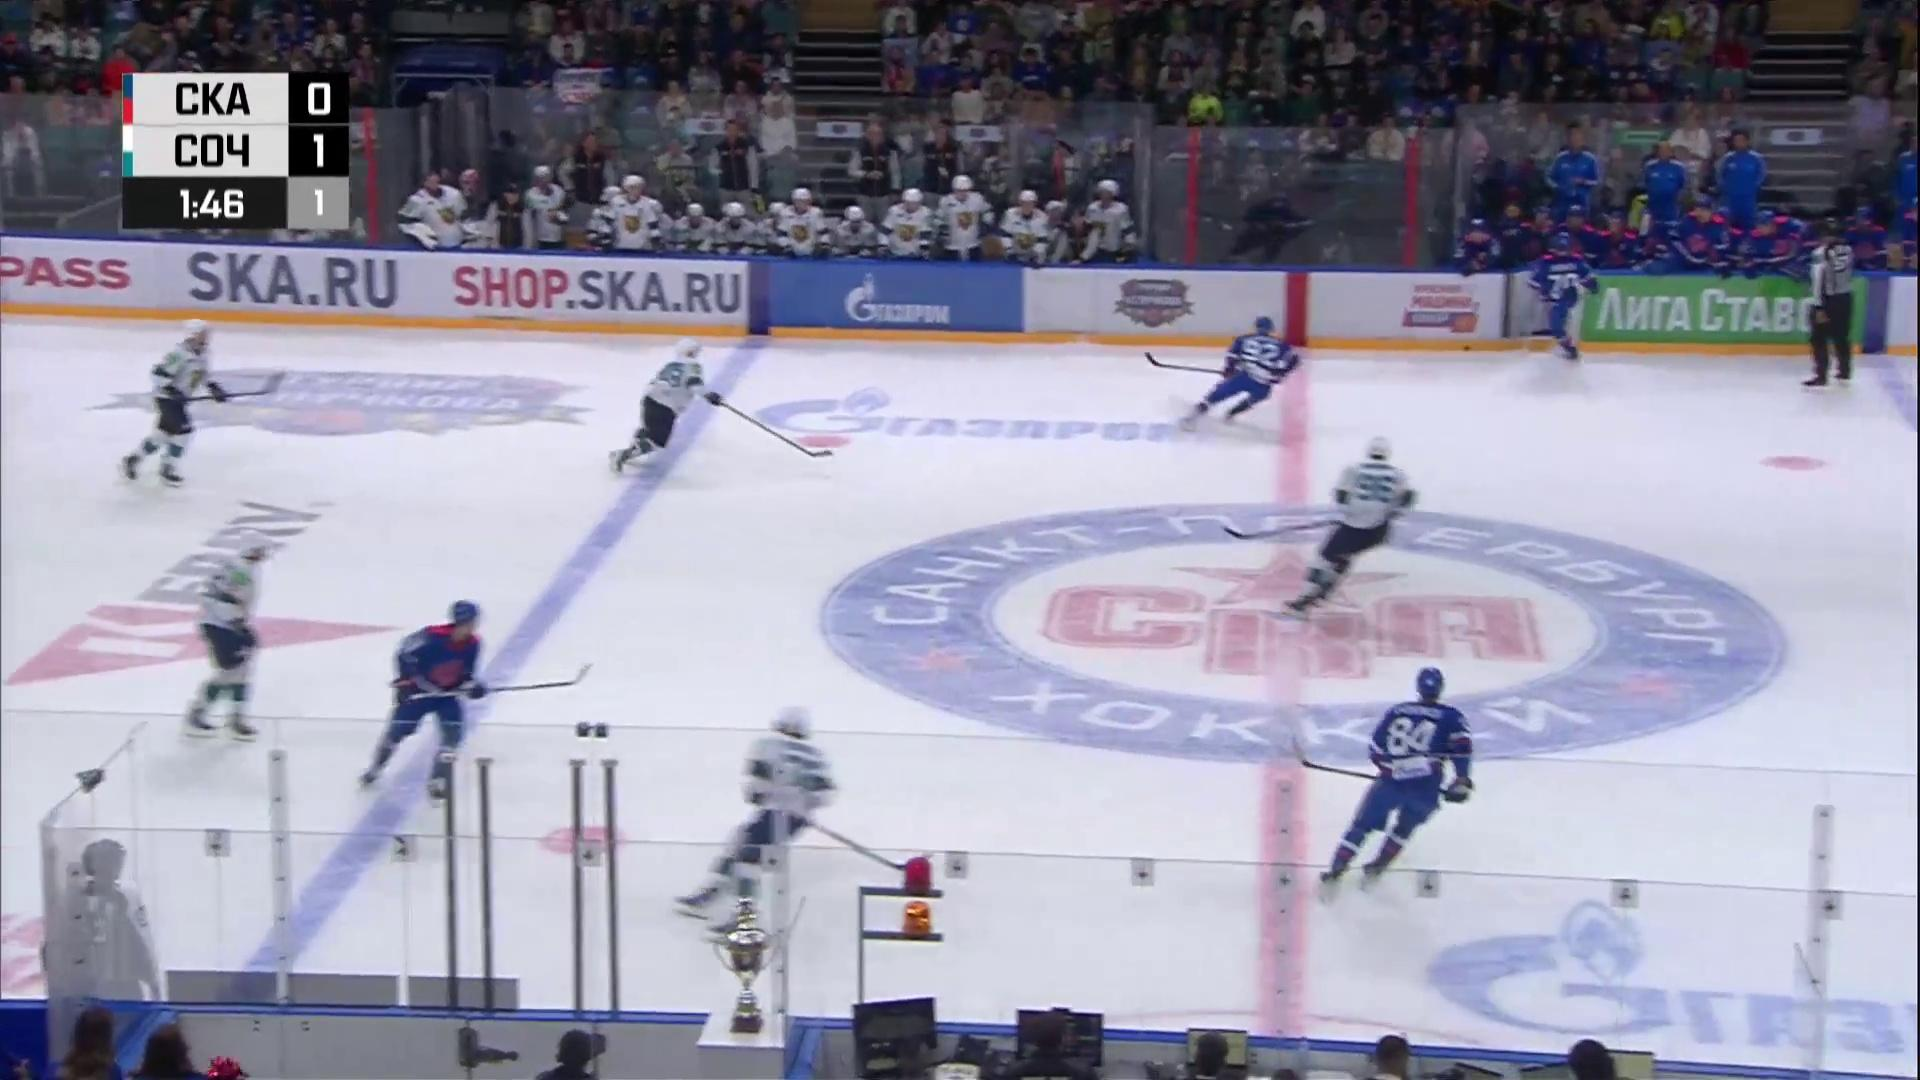ball: (1462, 345, 1472, 352)
